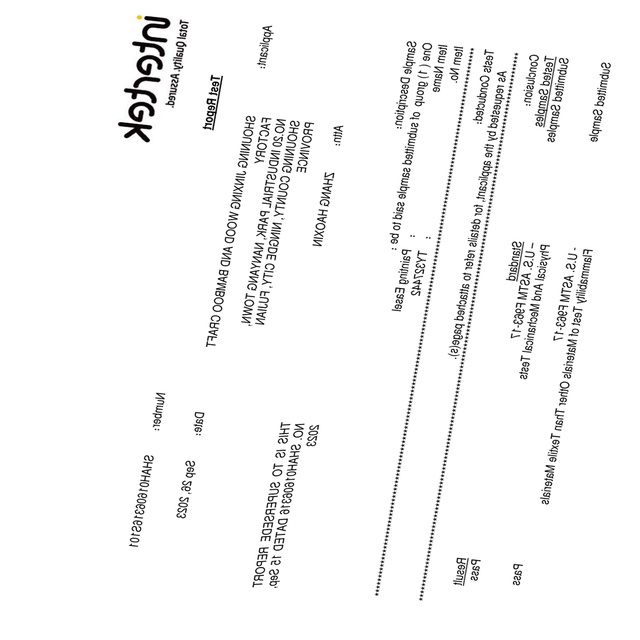intertek: (115, 7, 171, 148)
